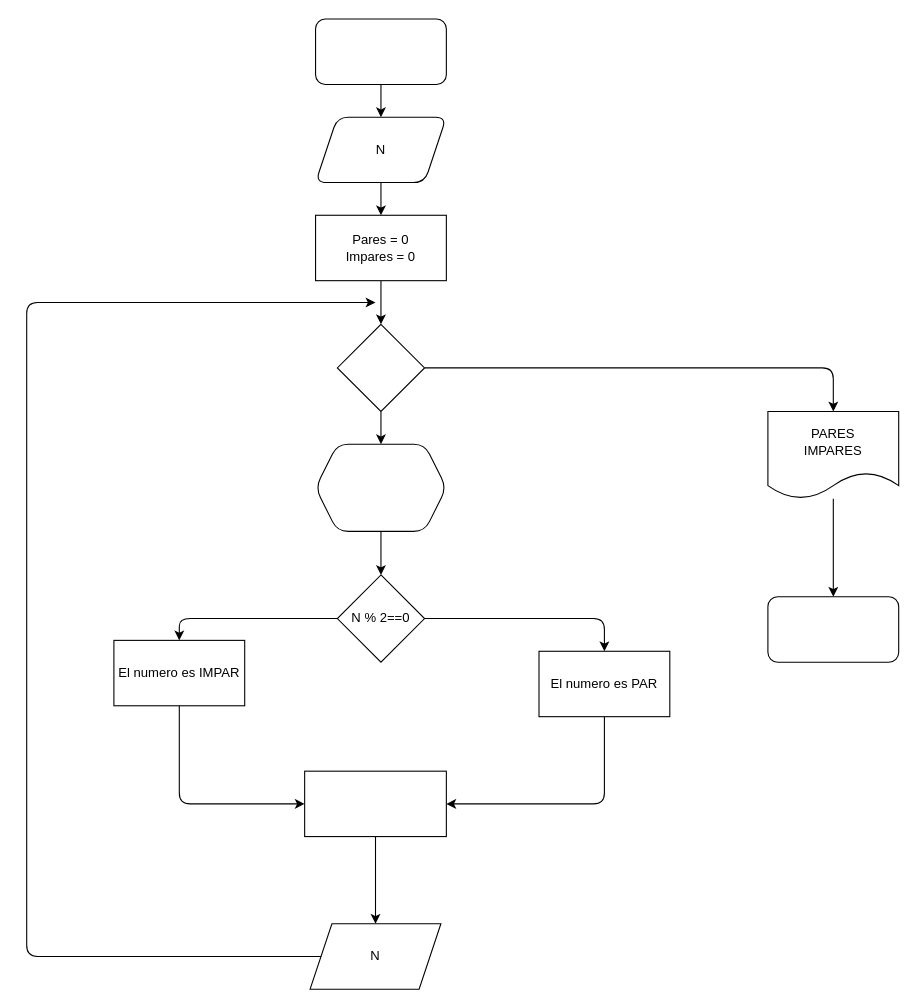
Image size: 918x1008. Some labels were removed from this diagram. Each missing label, with the centre of its shape:
"for i in range" goes at point (380, 487).
"INICIO" goes at point (380, 51).
"N != 0" goes at point (380, 367).
"Pares = Pares + 1 Impares = Impares + 1" goes at point (375, 803).
